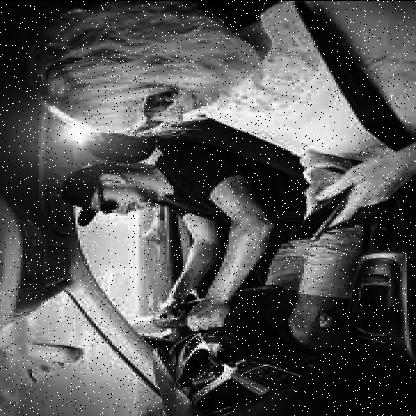seatbelt: (36, 15, 416, 151), (59, 160, 289, 260)
